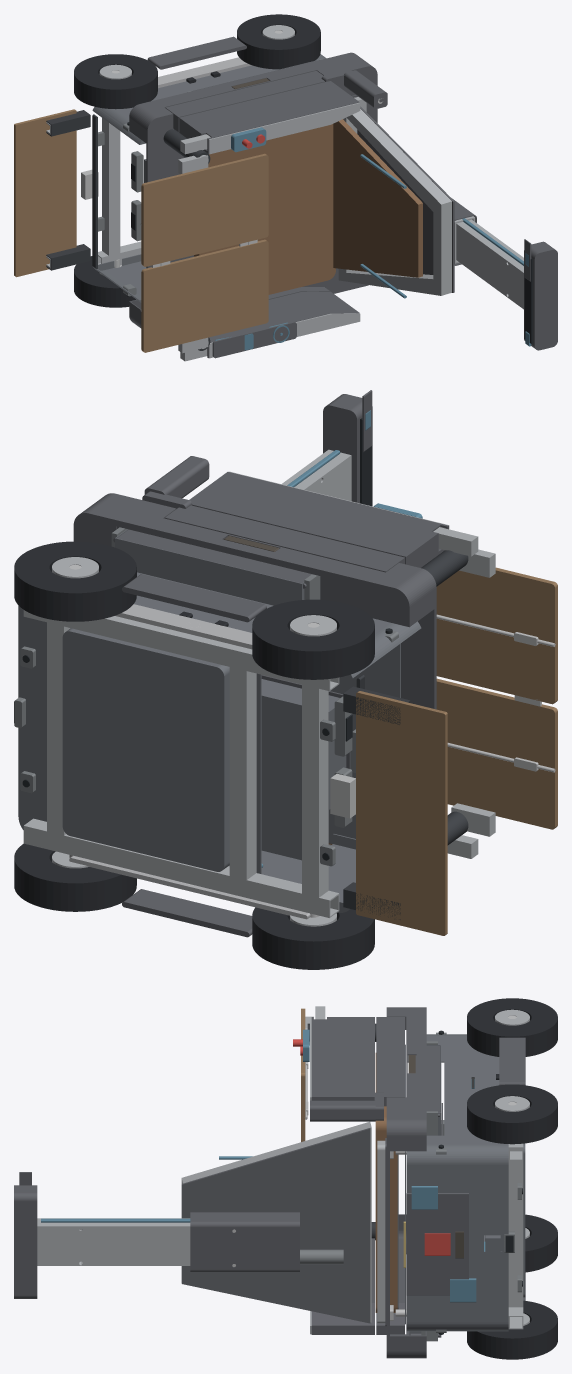
Rendered from workcore_e6_dfr5_focus_footrest_open.glb.
The picture shows the model from 3 angles, top to bottom: view 1: azimuth 30°, elevation 25°; view 2: azimuth 150°, elevation 25°; view 3: azimuth 270°, elevation 25°; orthographic projection. The views are drawn at different scales.
Visible parts, largest first — view 1: seat_cushion_envelope, desk_panel_right, desk_panel_left, backrest_cushion_envelope, footrest_platform_deployed_locked, upper_deck_panel, backrest_structural_carrier, armrest_shell_right, tyre_front_right, tyre_rear_right, mast_inner_focus, lower_body_enclosure (+20 smaller); view 2: battery_safety_cassette, footrest_platform_deployed_locked, upper_deck_panel, desk_panel_right, desk_panel_left, lower_body_enclosure, armrest_shell_right, tyre_front_right, tyre_rear_right, chassis_rail_left, chassis_crossmember_2, tyre_front_left (+27 smaller); view 3: backrest_rear_cosmetic_shell, lower_body_enclosure, mast_inner_focus, mast_outer_cosmetic_shroud_focus, upper_deck_panel, armrest_shell_right, service_rear_flush_door, tyre_rear_right, tyre_front_right, tyre_rear_left, sensor_beam_shell_focus, armrest_base_shell_right (+19 smaller).
Boxes of the visible parts, x1,y1,x2,y2 form: seat_cushion_envelope: (194,124,335,294); desk_panel_right: (141,153,268,266); desk_panel_left: (141,239,268,352); backrest_cushion_envelope: (333,119,422,277); footrest_platform_deployed_locked: (14,109,76,277); upper_deck_panel: (129,52,377,328); backrest_structural_carrier: (338,109,451,295); armrest_shell_right: (179,81,359,153); tyre_front_right: (74,54,157,109); tyre_rear_right: (237,14,320,69); mast_inner_focus: (456,219,523,309); lower_body_enclosure: (92,54,326,302); battery_safety_cassette: (62,628,229,871); footrest_platform_deployed_locked: (356,691,447,935); upper_deck_panel: (73,493,436,709); desk_panel_right: (436,567,557,704); desk_panel_left: (436,678,557,829); lower_body_enclosure: (18,572,421,912); armrest_shell_right: (189,472,448,567); tyre_front_right: (252,599,374,679); tyre_rear_right: (14,541,136,621); chassis_rail_left: (23,818,339,917); chassis_crossmember_2: (229,658,256,888); tyre_front_left: (252,907,374,969); backrest_rear_cosmetic_shell: (181,1128,370,1323); lower_body_enclosure: (406,1034,508,1331); mast_inner_focus: (37,1218,190,1265); mast_outer_cosmetic_shroud_focus: (190,1212,299,1271); upper_deck_panel: (386,1007,426,1358); armrest_shell_right: (311,1017,374,1100); service_rear_flush_door: (406,1193,468,1295); tyre_rear_right: (467,1084,557,1144); tyre_front_right: (467,998,557,1056); tyre_rear_left: (467,1300,557,1359); sensor_beam_shell_focus: (14,1185,37,1298); armrest_base_shell_right: (376,1017,404,1106).
Size of the model in its own units: 1.06 by 0.735 by 1.49.
